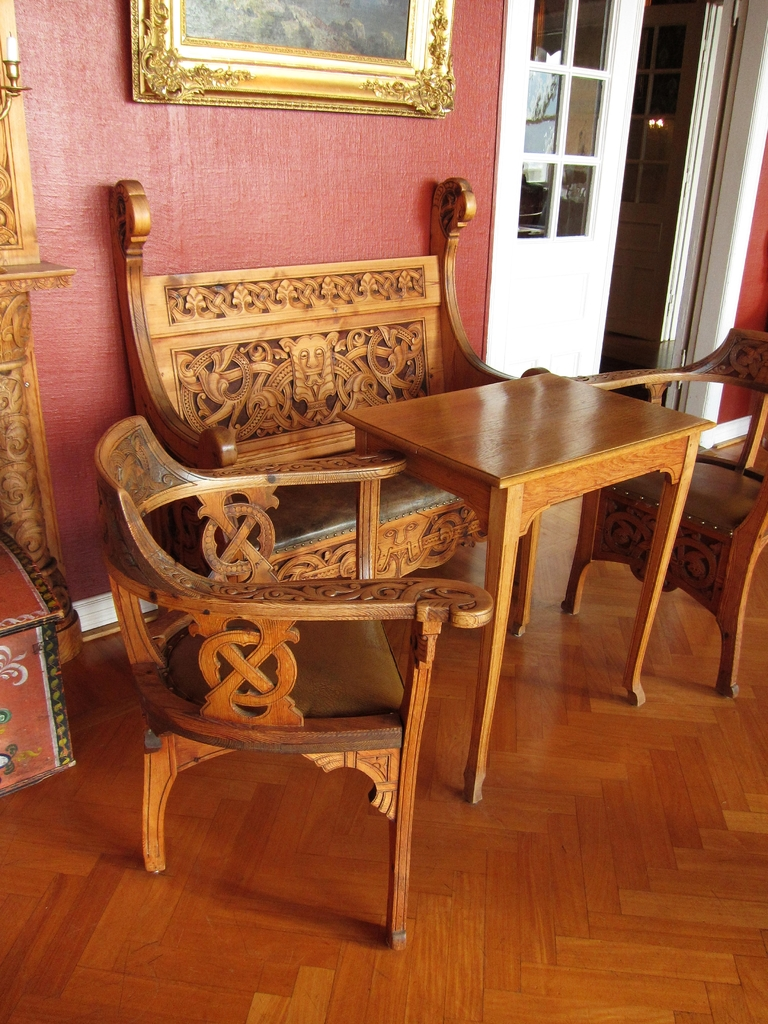Cabinetry: (103, 102, 719, 929)
